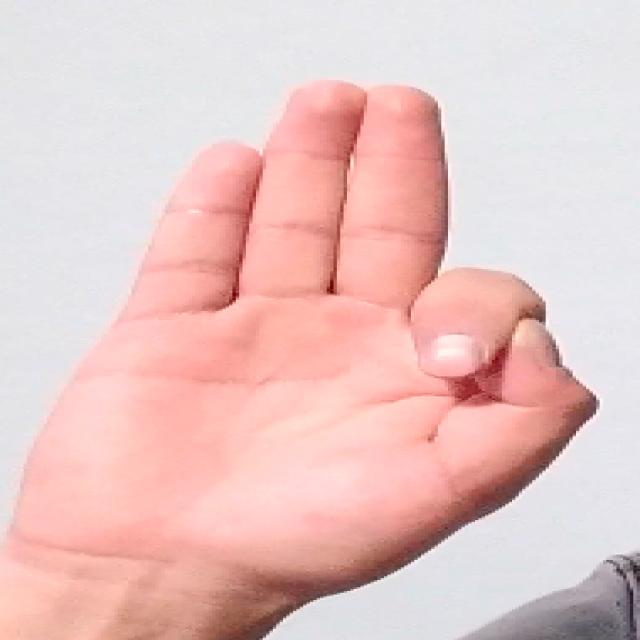F: (10, 70, 604, 575)
